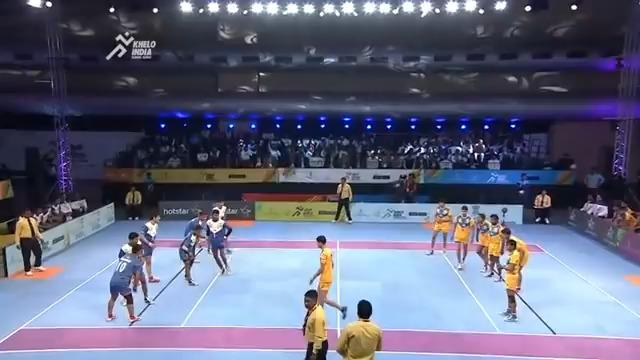Player: (105, 242, 144, 324), (118, 231, 155, 305), (495, 238, 526, 321), (204, 208, 232, 274), (137, 213, 161, 283), (424, 198, 452, 255), (178, 223, 203, 285), (451, 204, 474, 270), (483, 213, 504, 281), (472, 212, 490, 272), (206, 199, 234, 237), (184, 207, 201, 246)
Raider: (307, 234, 347, 319)
referee: (335, 299, 382, 359), (14, 208, 46, 275), (301, 289, 328, 359), (330, 176, 353, 223), (531, 188, 550, 222), (124, 185, 142, 220)
